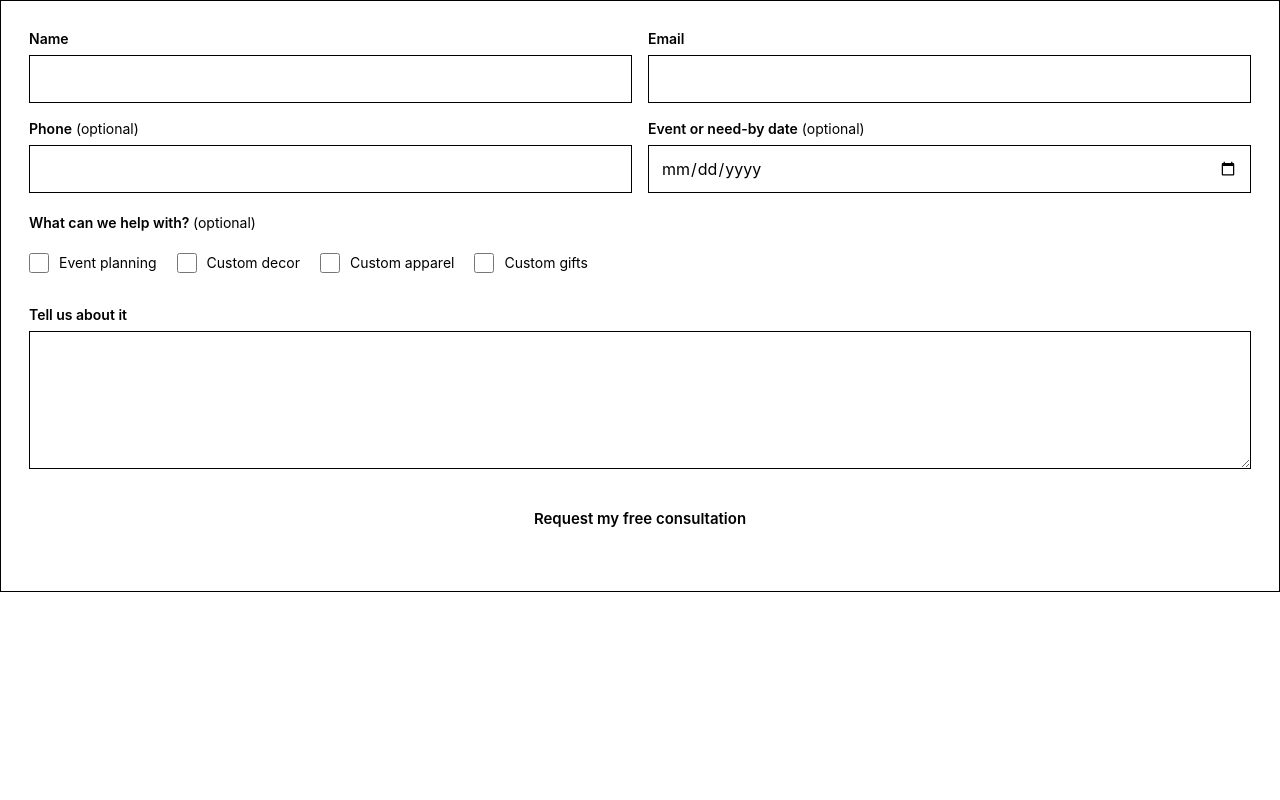
it: ContactForm (FORM_UI) › shows a field the server rejected as a field to fix, not a failed send, keeping what was typed
In the field labelled "Name": (330, 79) left=29, top=55, right=632, bottom=103, type "Maria Lopez"
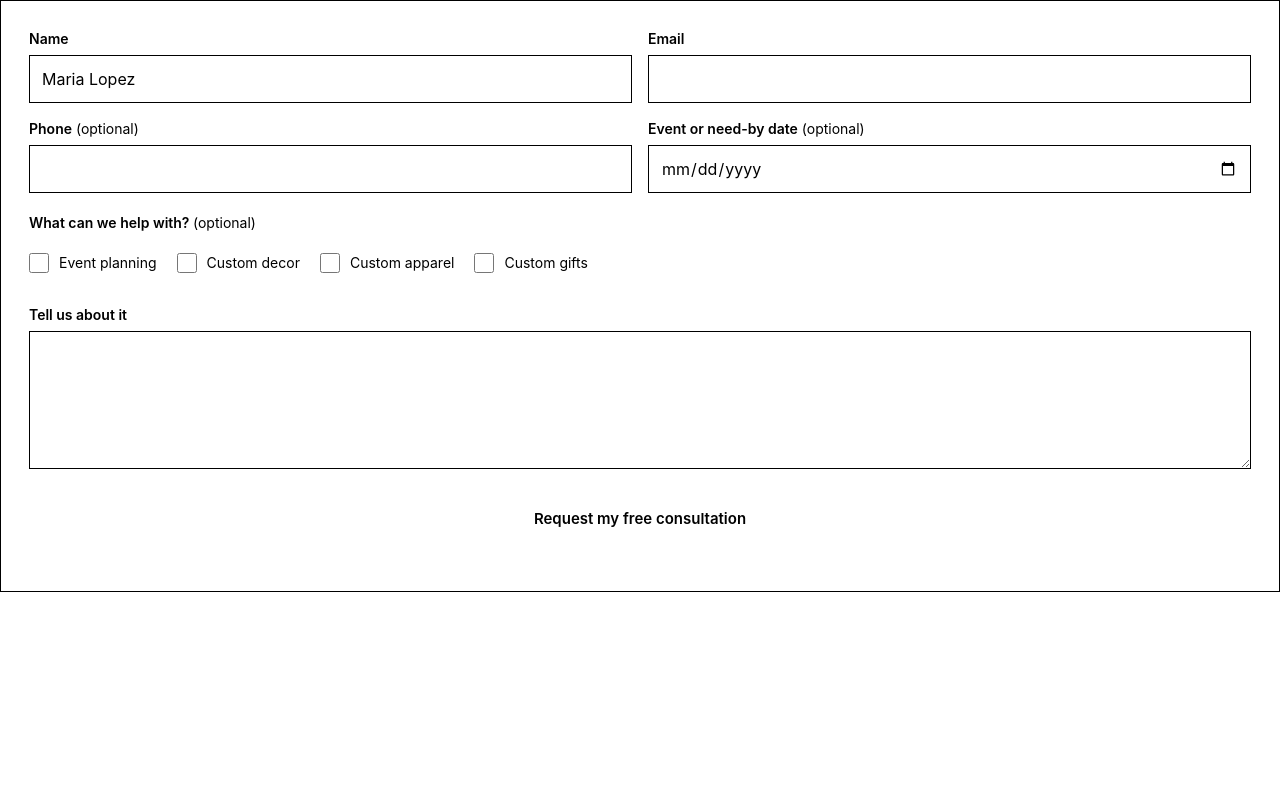
In the field labelled "Email": (950, 79) left=648, top=55, right=1251, bottom=103, type "maria@example.com"
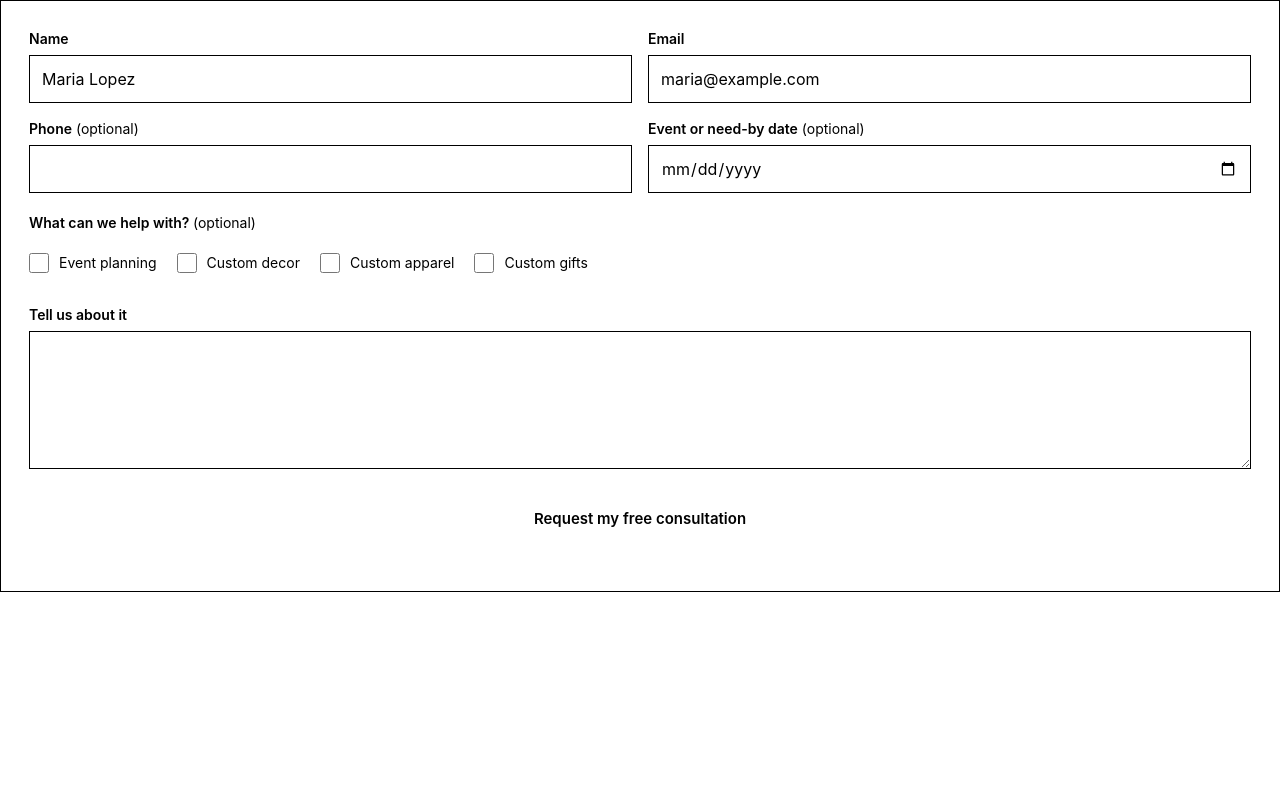
In the text box labelled "Tell us about it": (640, 400) left=29, top=331, right=1251, bottom=469, type "Quinceañera in June, about 120 guests."
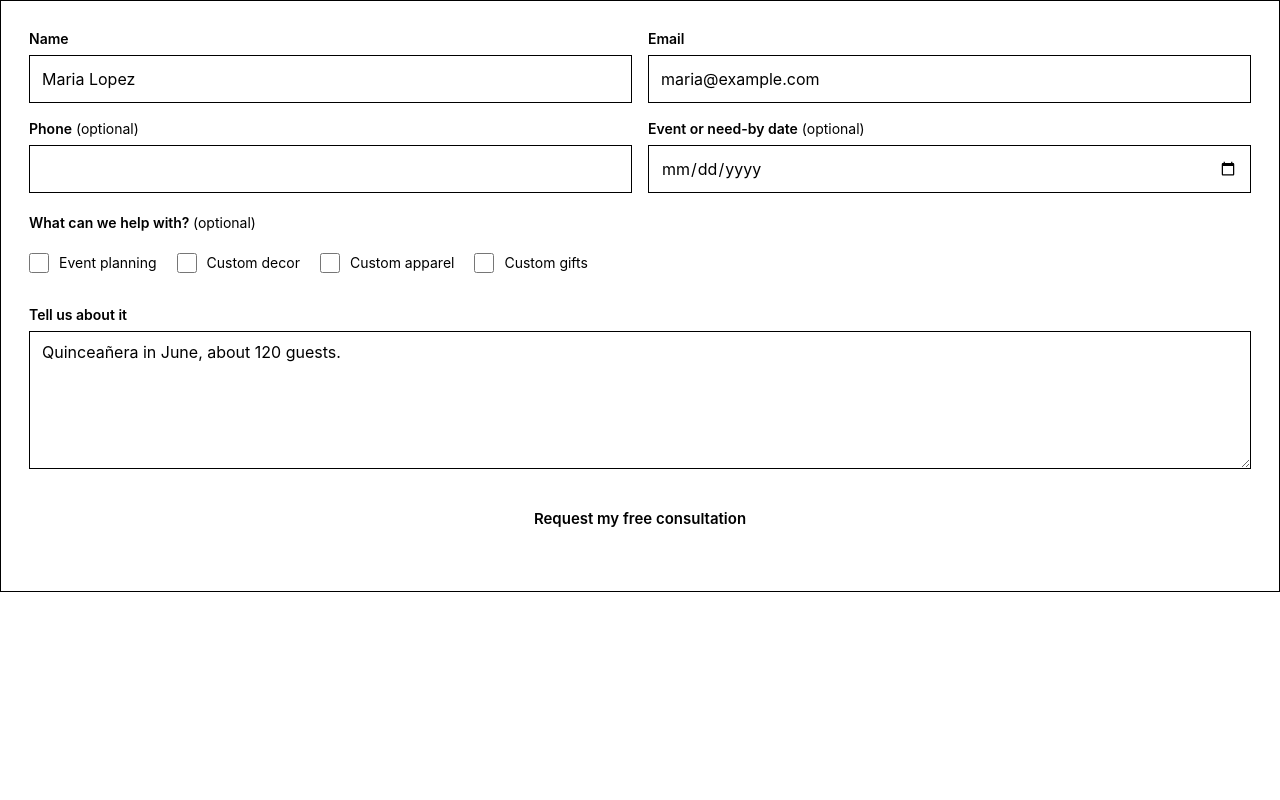
Click the button "Request my free consultation": (640, 519) left=29, top=495, right=1251, bottom=543
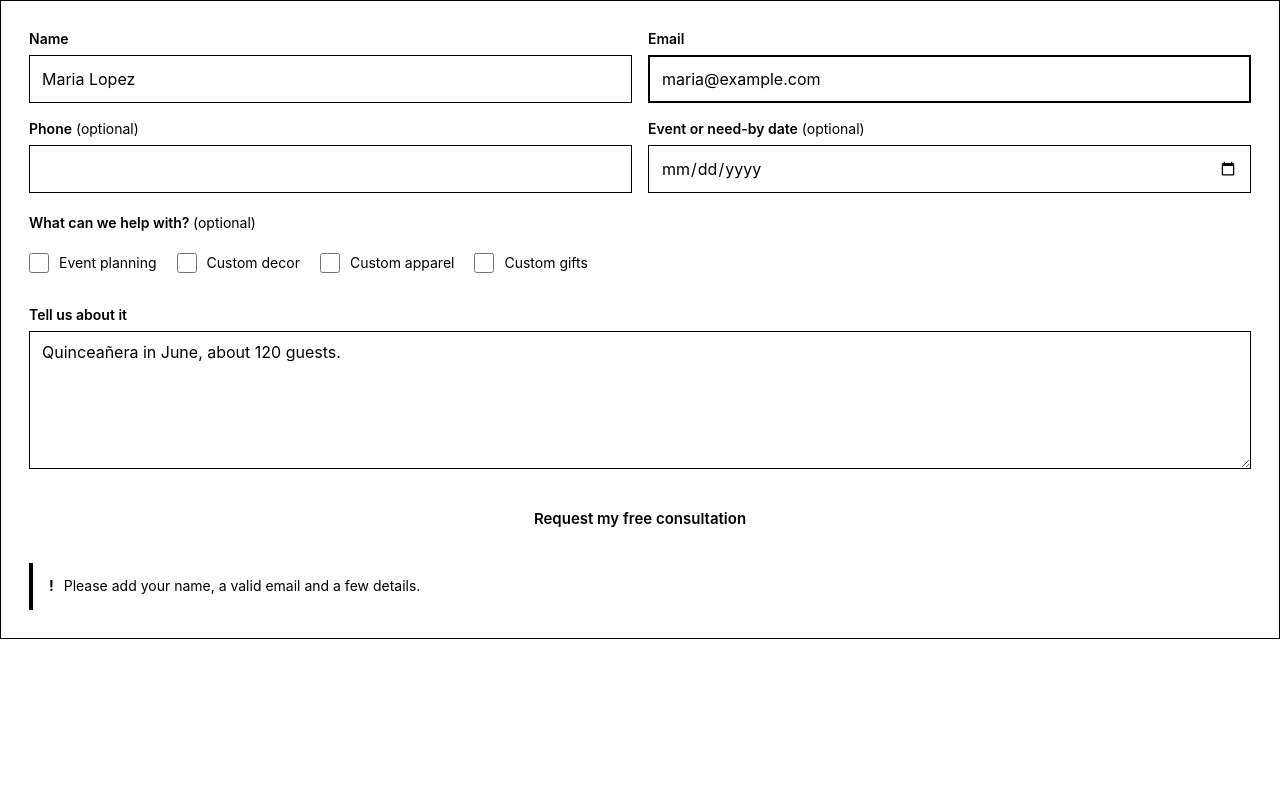
Expected: the message shows "Please add your name, a valid email and a few details.", left=64, top=577, right=420, bottom=594
